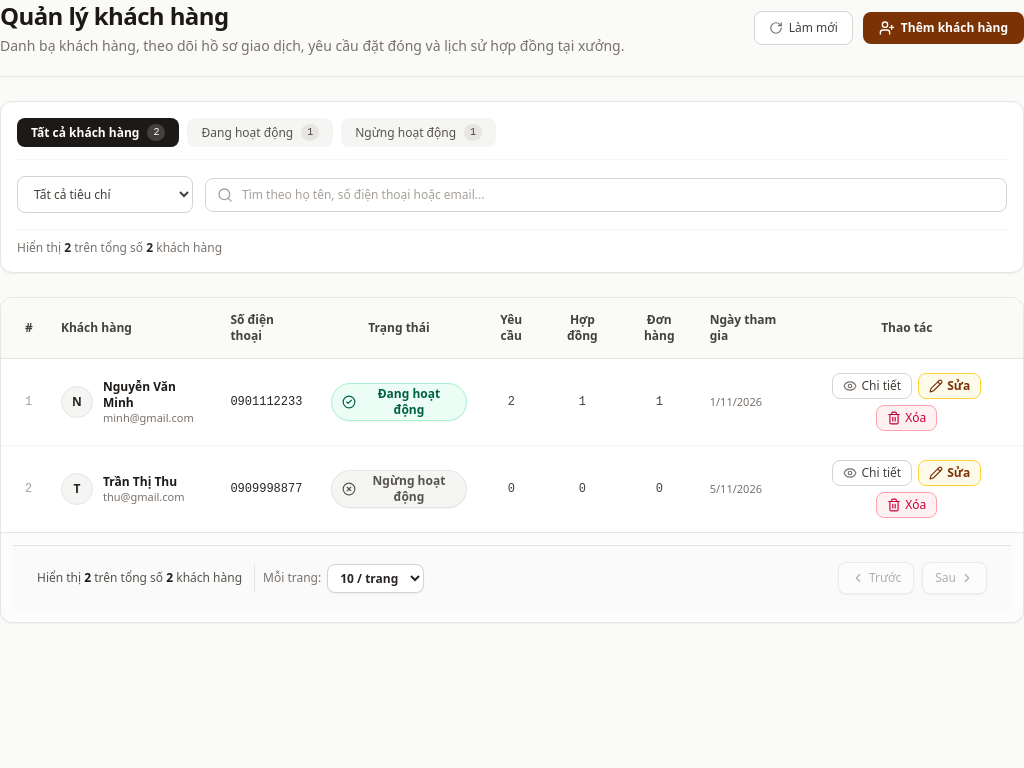
CustomersPage Component › opens create customer modal on clicking Thêm khách hàng
Click the button "Thêm khách hàng" at {"x": 943, "y": 28}, box [863,12,1023,44]
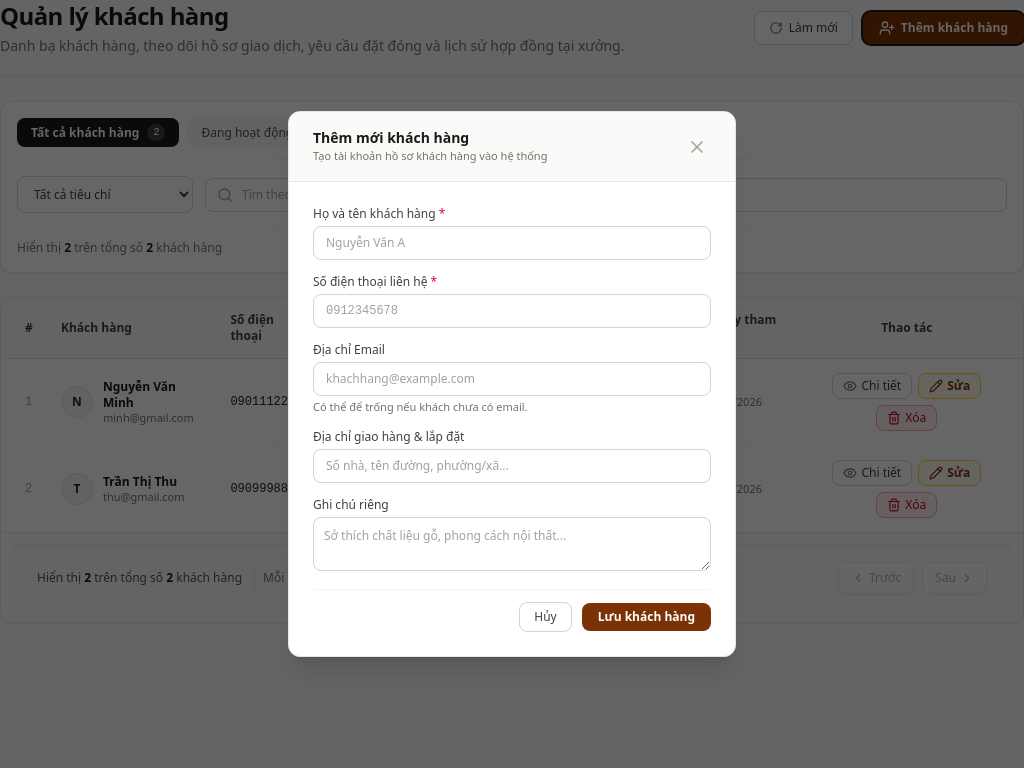
Check: the heading "Thêm mới khách hàng" is shown, box [313,128,469,147]
Check: the field with placeholder "Nguyễn Văn A" is shown, box [313,226,711,260]
